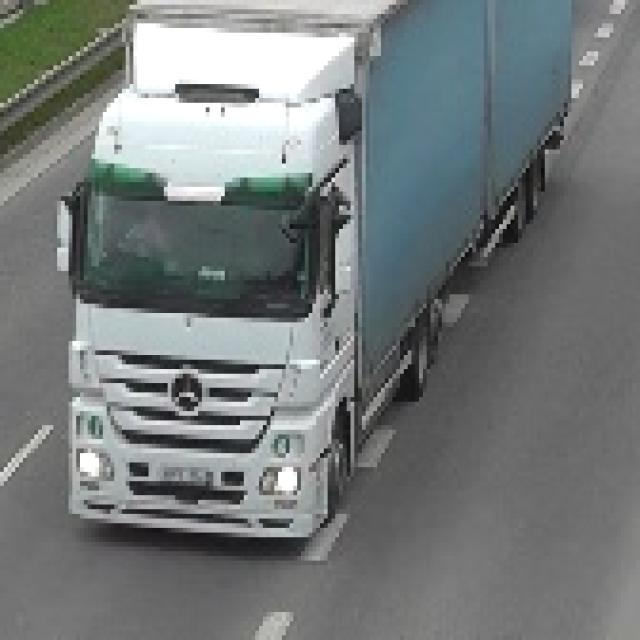TRUCK: (71, 5, 582, 556)
